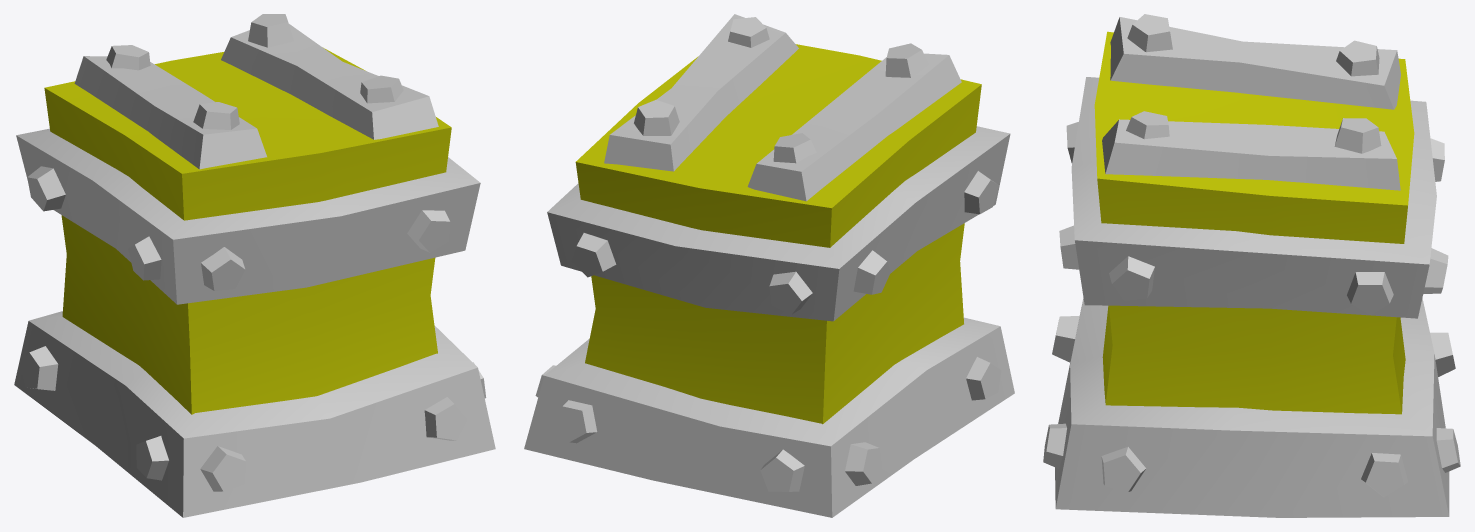
3 views of the same model, side by side, from view 1: azimuth 30°, elevation 25°; view 2: azimuth 150°, elevation 25°; view 3: azimuth 270°, elevation 25° (orthographic). The views are drawn at different scales.
Visible parts, largest first — view 1: Tool.003, Tool.001, Tool.002, Tool.004, Tool.005; view 2: Tool.003, Tool.001, Tool.002, Tool.004, Tool.005; view 3: Tool.003, Tool.001, Tool.002, Tool.004, Tool.005.
Part boxes in pixels (x1=…): Tool.003: x1=44, y1=47, x2=451, y2=414; Tool.001: x1=14, y1=311, x2=495, y2=517; Tool.002: x1=16, y1=128, x2=480, y2=304; Tool.004: x1=74, y1=24, x2=438, y2=169; Tool.005: x1=20, y1=14, x2=486, y2=491; Tool.003: x1=575, y1=44, x2=981, y2=424; Tool.001: x1=524, y1=317, x2=1014, y2=517; Tool.002: x1=547, y1=126, x2=1010, y2=321; Tool.004: x1=604, y1=14, x2=961, y2=201; Tool.005: x1=535, y1=17, x2=1001, y2=491; Tool.003: x1=1094, y1=31, x2=1414, y2=414; Tool.001: x1=1055, y1=298, x2=1449, y2=517; Tool.002: x1=1071, y1=77, x2=1436, y2=318; Tool.004: x1=1102, y1=17, x2=1400, y2=190; Tool.005: x1=1043, y1=14, x2=1460, y2=497.
Size of the model in its own units: 57.86 by 58.67 by 59.51.
